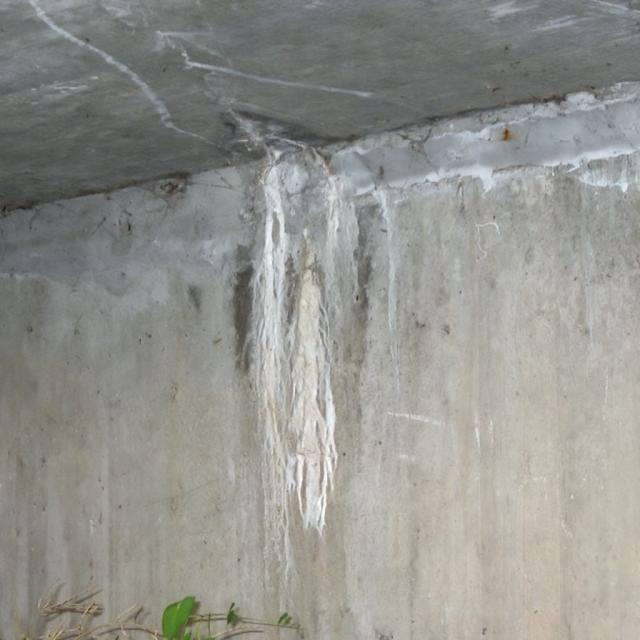D01: (246, 150, 349, 537)
